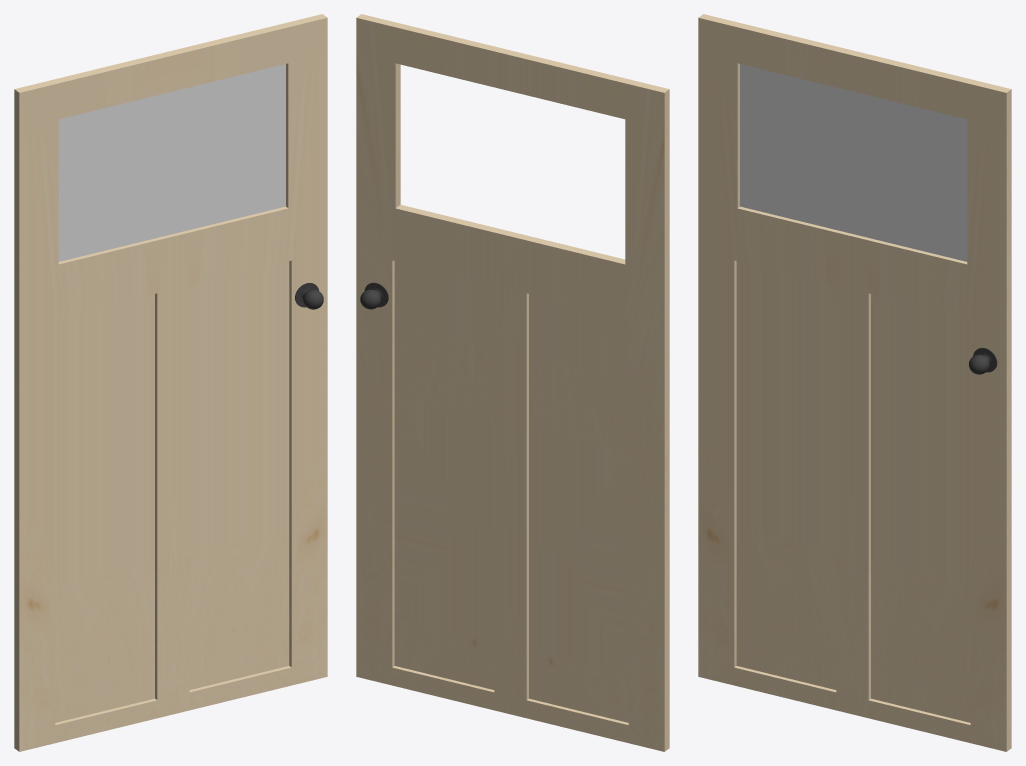
The model's file is doors_toliet_tex6.glb.
The picture shows the model from 3 angles, left to right: view 1: azimuth 30°, elevation 25°; view 2: azimuth 150°, elevation 25°; view 3: azimuth 330°, elevation 25°; orthographic projection.
Visible parts, largest first — view 1: Sphere; view 2: Sphere; view 3: Sphere.
Boxes of the visible parts, box(x1,y1,x2,y2) form: Sphere: box(14, 14, 327, 751); Sphere: box(356, 14, 669, 751); Sphere: box(698, 14, 1011, 751).
Size of the model in its own units: 0.9194 by 1.88 by 0.1473.
2 materials, 1 textured.
